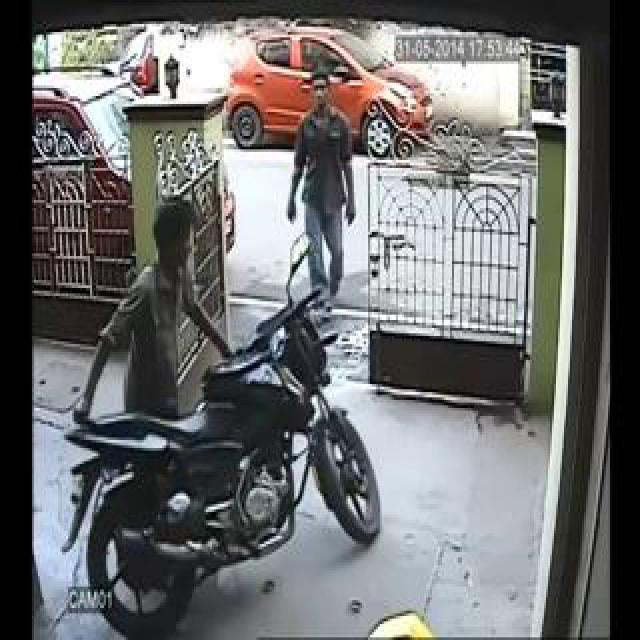stealing: (46, 0, 457, 639)
